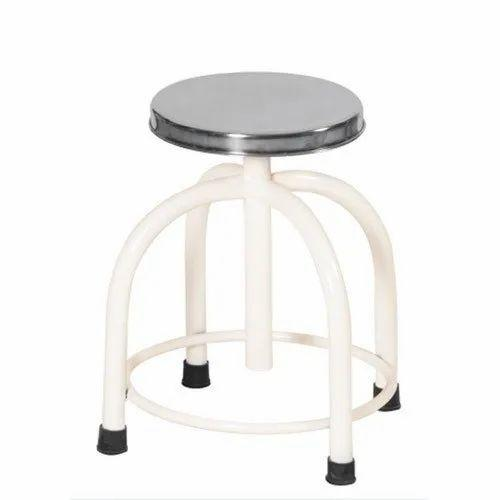stool: (96, 70, 401, 485)
